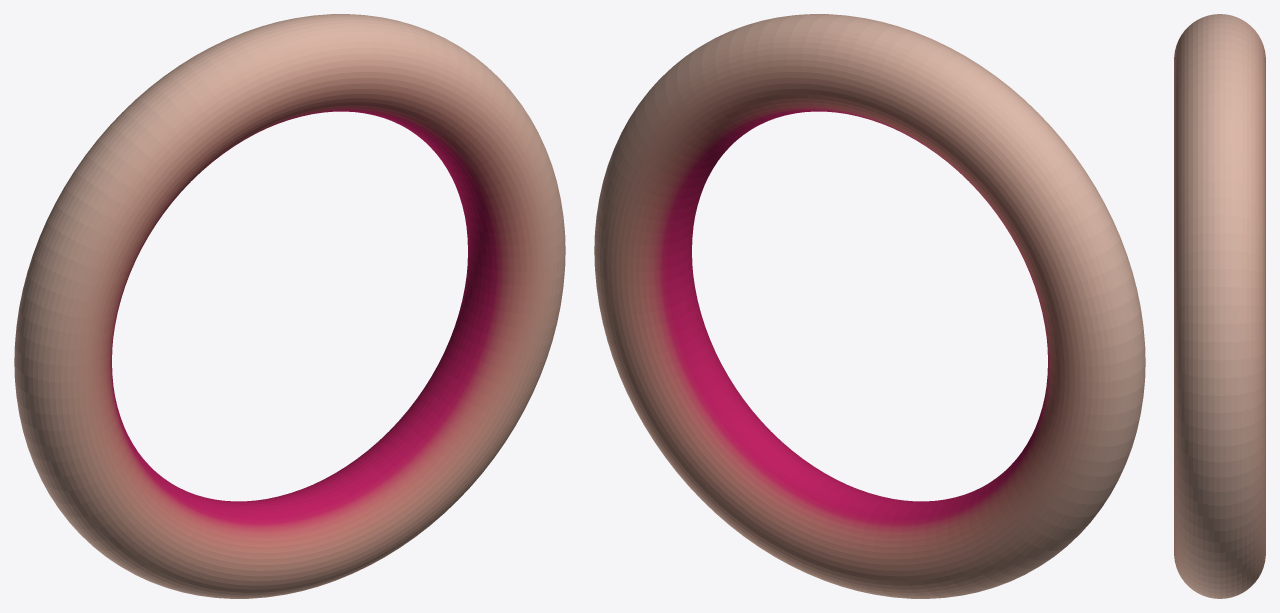
The picture shows the model from 3 angles, left to right: view 1: azimuth 30°, elevation 25°; view 2: azimuth 150°, elevation 25°; view 3: azimuth 270°, elevation 25°; orthographic projection. The views are drawn at different scales.
Visible parts, largest first — view 1: world; view 2: world; view 3: world.
Part boxes in pixels (<box>): world: <box>14,14,565,598</box>; world: <box>594,14,1145,598</box>; world: <box>1174,14,1265,598</box>.
Bounding box in the file's own units: 34.8 × 34.8 × 5.46.
